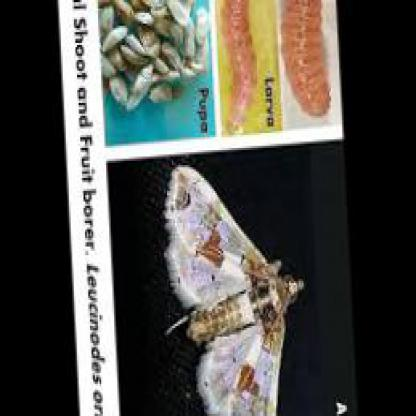leucinodes: (167, 165, 312, 413)
